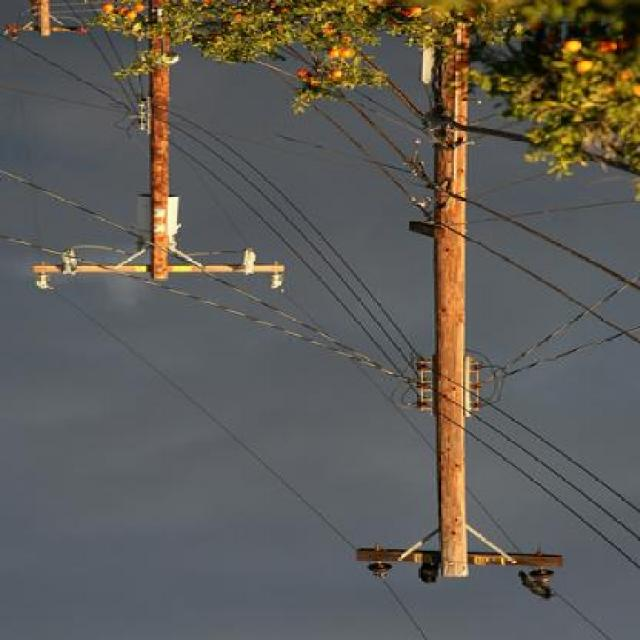pole: (366, 20, 602, 603), (32, 36, 248, 286)
